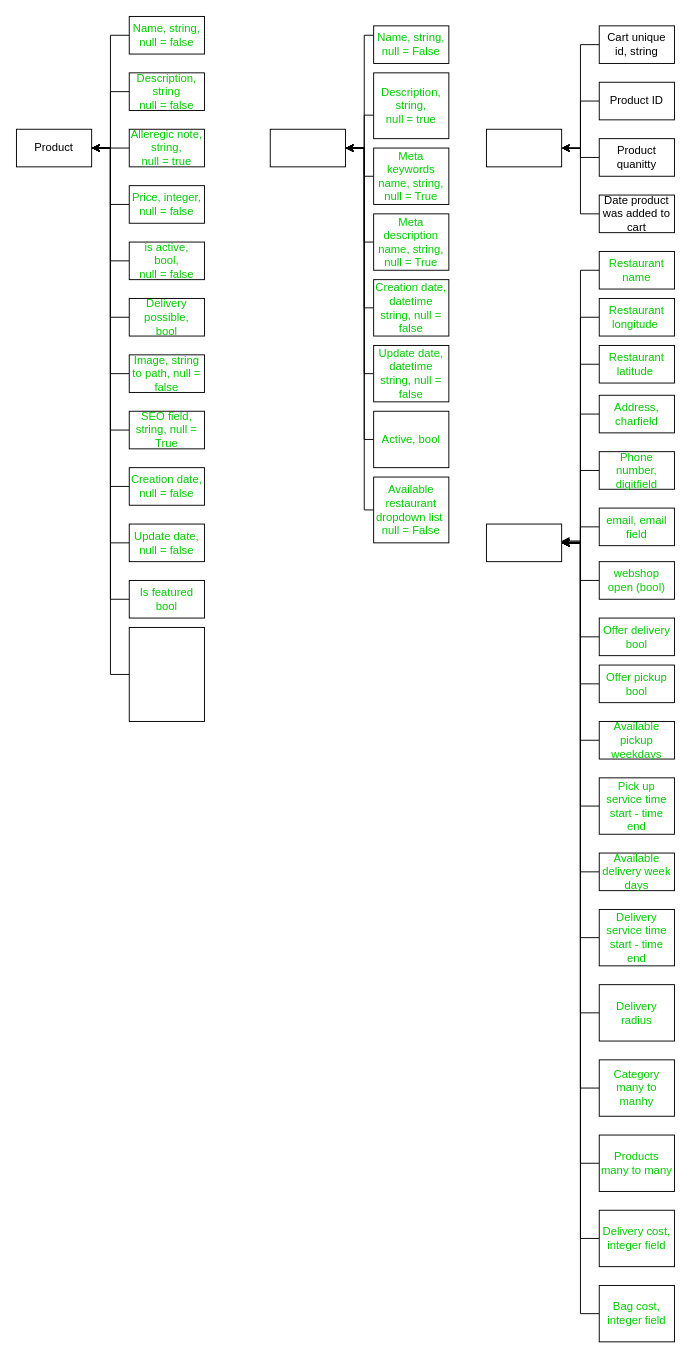
Some shapes in this 691 by 1358 pixel diagram are drawn without their labels. Each missing label, with the centre of its shape:
"Cart" goes at [524,147].
"Category" goes at [307,147].
"Quantity, integer used for campaign products with limited number" goes at [166,674].
"Restaurant site" goes at [524,542].
